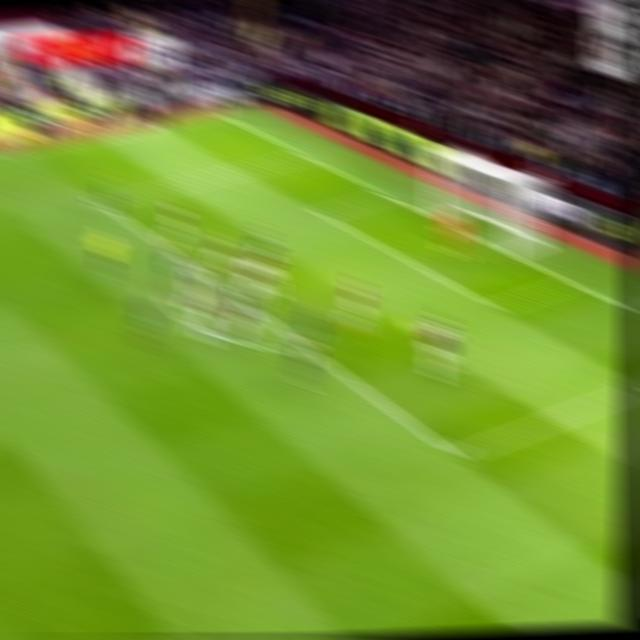bigarea_bottom_inner: (439, 437, 474, 471)
bigarea_top_inner: (88, 191, 113, 213)
bigarea_top_outter: (291, 145, 318, 164)
bottom_arc_area_intersection: (296, 338, 325, 361)
corner: (203, 104, 232, 122)
smallarea_bottom_inner: (479, 290, 511, 322)
smallarea_bottom_outter: (555, 269, 585, 293)
smallarea_top_inner: (305, 200, 335, 224)
smallarea_top_outter: (371, 184, 399, 205)
top_arc_area_intersection: (170, 246, 197, 271)
